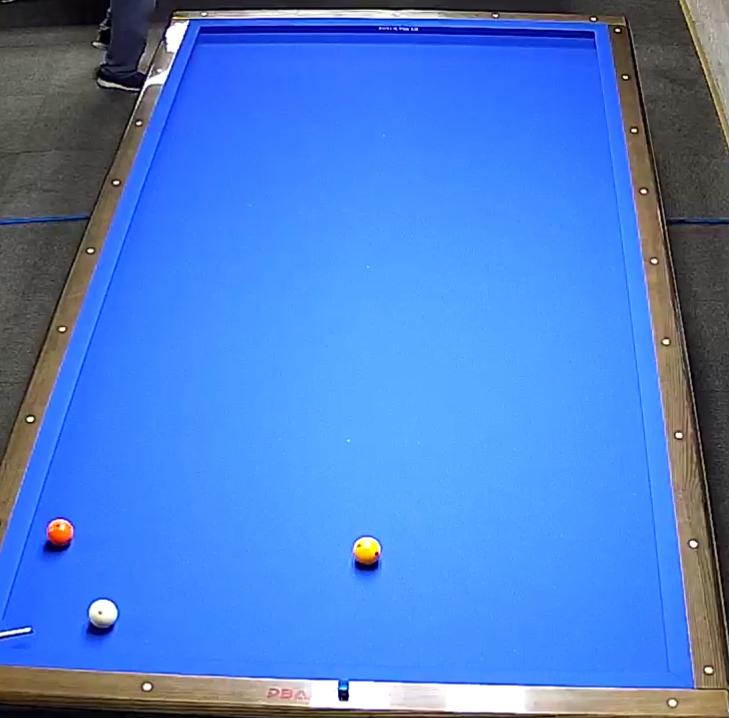orange ball: (43, 511, 79, 555)
white ball: (85, 595, 123, 640)
yellow ball: (349, 533, 390, 575)
